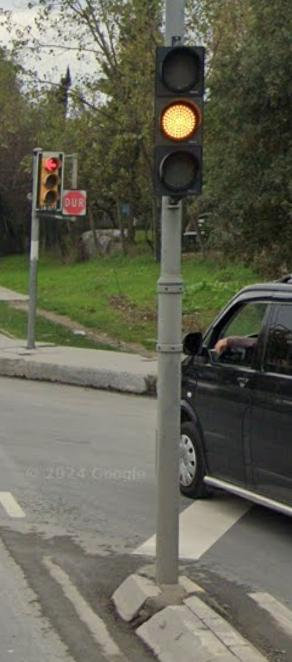redlight: (37, 151, 62, 212)
stop: (63, 189, 87, 215)
yellowlight: (158, 44, 204, 194)
